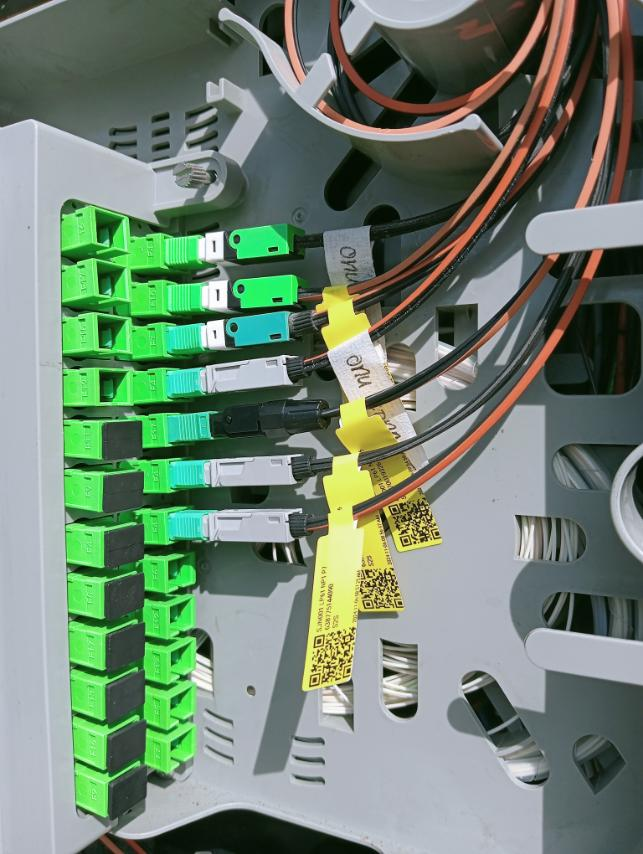no dust cap: (92, 206, 131, 254), (92, 259, 133, 302), (95, 312, 133, 354), (96, 368, 133, 407), (166, 593, 197, 638), (169, 724, 197, 773), (168, 683, 196, 731), (165, 551, 196, 593), (169, 638, 196, 684)
occupied: (167, 392, 356, 446), (166, 350, 338, 400), (167, 304, 346, 352), (163, 220, 327, 263), (168, 272, 326, 313), (168, 454, 329, 493), (169, 512, 321, 543)
vacant: (107, 669, 145, 725), (110, 764, 146, 823), (106, 572, 144, 626), (110, 622, 146, 674), (111, 720, 145, 775), (105, 523, 143, 569), (104, 471, 144, 513), (103, 421, 143, 461)
